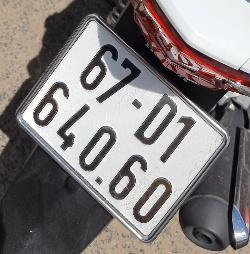0: (128, 171, 183, 230), (73, 118, 124, 179)
1: (151, 110, 206, 171)
4: (51, 98, 102, 156)
6: (101, 146, 157, 208), (73, 38, 126, 96), (27, 75, 76, 134)
7: (89, 51, 147, 111)
D: (132, 89, 184, 151)
